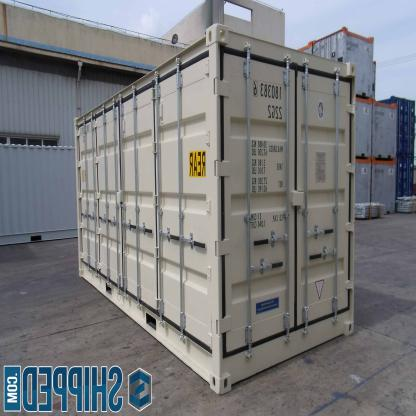Damage: (231, 115, 260, 139), (316, 184, 340, 204), (372, 162, 379, 198), (373, 108, 382, 130), (358, 68, 366, 88)
